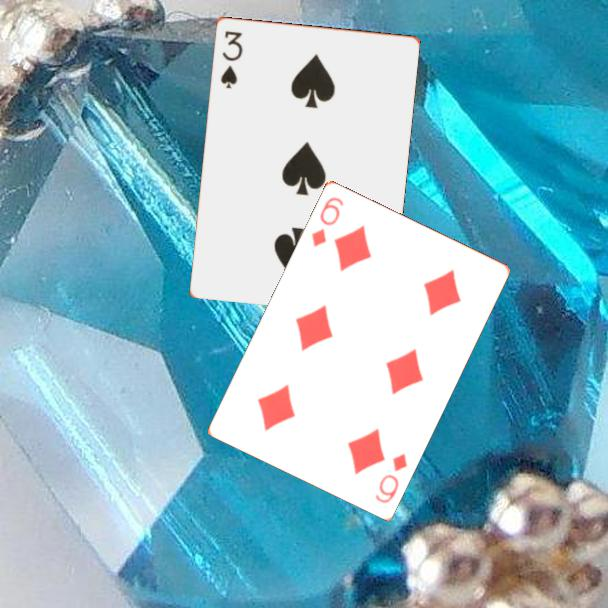d06: (307, 193, 347, 249), (371, 449, 410, 506)
s03: (217, 27, 245, 91)
